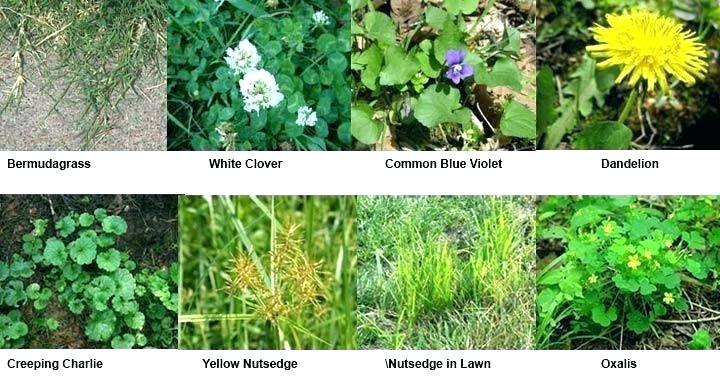crabgrass: (43, 9, 163, 106)
